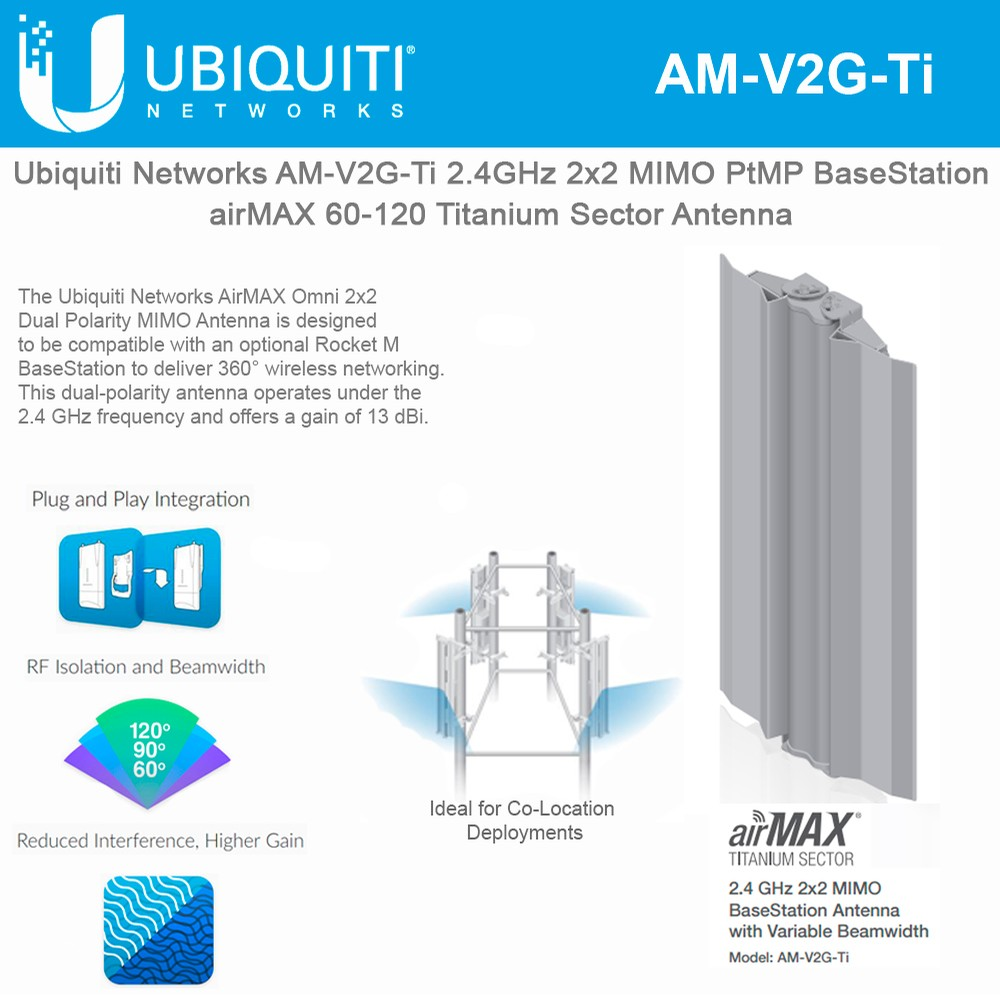sa: (699, 245, 936, 798)
